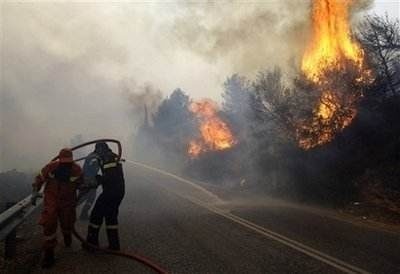fire: (296, 0, 372, 146), (180, 88, 238, 158)
